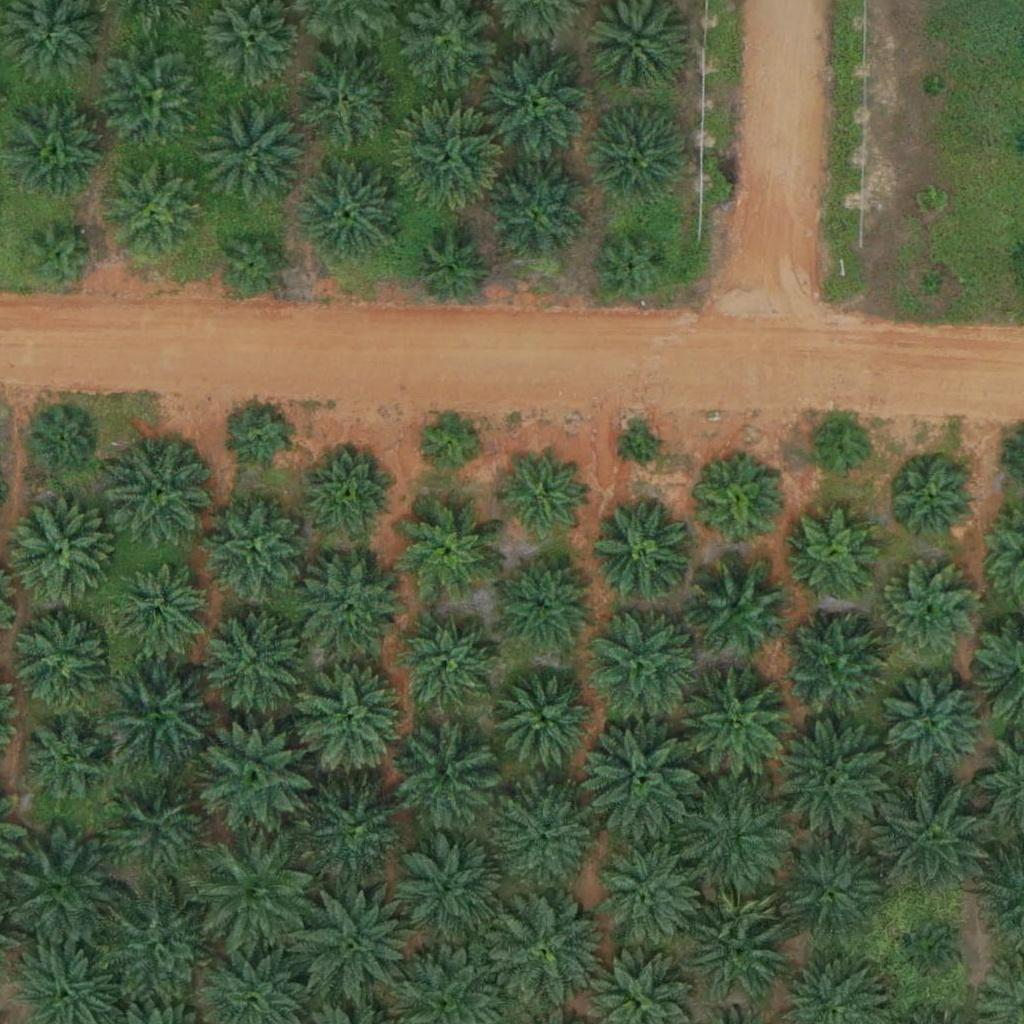Kelapa_Sawit: (94, 647, 219, 773), (93, 766, 218, 892), (93, 882, 218, 1008), (194, 716, 319, 842), (192, 834, 317, 960), (289, 882, 414, 1008), (577, 720, 702, 846), (670, 777, 795, 903), (766, 719, 891, 845), (871, 778, 996, 904), (290, 659, 415, 784), (480, 890, 605, 1015), (680, 668, 793, 782), (780, 609, 893, 723), (480, 46, 593, 159), (772, 836, 885, 949), (393, 107, 505, 220), (586, 603, 698, 716), (589, 839, 701, 952), (679, 888, 791, 1001), (880, 670, 992, 783), (487, 164, 587, 265), (296, 55, 396, 156), (300, 162, 400, 263), (203, 100, 303, 201), (104, 49, 204, 150), (104, 161, 204, 262), (5, 103, 105, 204), (11, 499, 111, 600), (10, 614, 110, 715), (113, 440, 213, 541), (107, 561, 207, 662), (204, 497, 304, 598), (204, 609, 304, 710), (299, 554, 399, 655), (307, 781, 407, 882), (401, 501, 501, 602), (396, 616, 496, 717), (397, 730, 497, 831), (401, 834, 501, 935), (493, 553, 593, 654), (495, 669, 595, 770), (492, 785, 592, 886), (876, 563, 976, 664), (590, 106, 690, 206), (17, 710, 117, 810), (593, 498, 693, 598), (688, 556, 788, 656), (498, 453, 586, 541), (791, 508, 879, 596), (890, 457, 978, 545), (310, 450, 397, 538), (697, 462, 784, 550), (596, 228, 671, 304), (22, 220, 97, 296), (414, 234, 489, 309), (218, 228, 293, 303), (31, 409, 94, 472), (901, 924, 964, 987), (231, 407, 293, 470), (417, 408, 479, 471), (812, 420, 874, 483), (624, 428, 661, 466), (921, 76, 946, 101), (917, 188, 942, 213), (920, 272, 945, 297)
